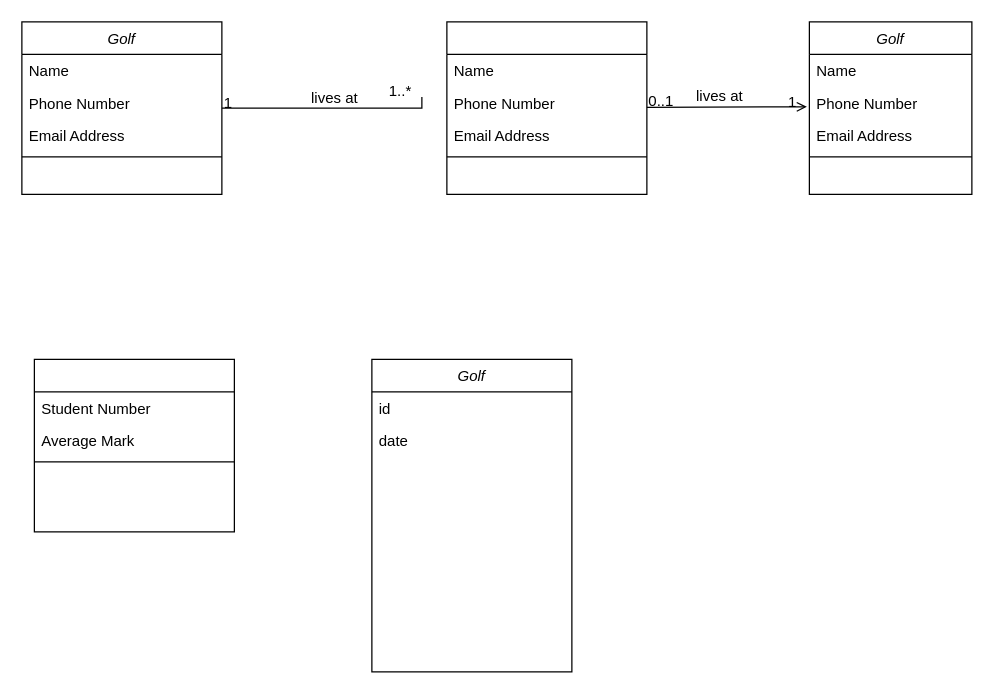
The diagram is 994 pixels wide and 694 high, and some of its shapes have lost their labels. The shapes that lost their labels are listed below. From the top down, each one's box as (x1, y1, x2, y2) in pixels, then its label:
(446, 21, 647, 194): Parcours
(33, 358, 234, 532): User
